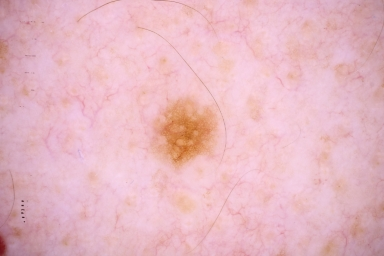nevus: (153, 105, 220, 165)
